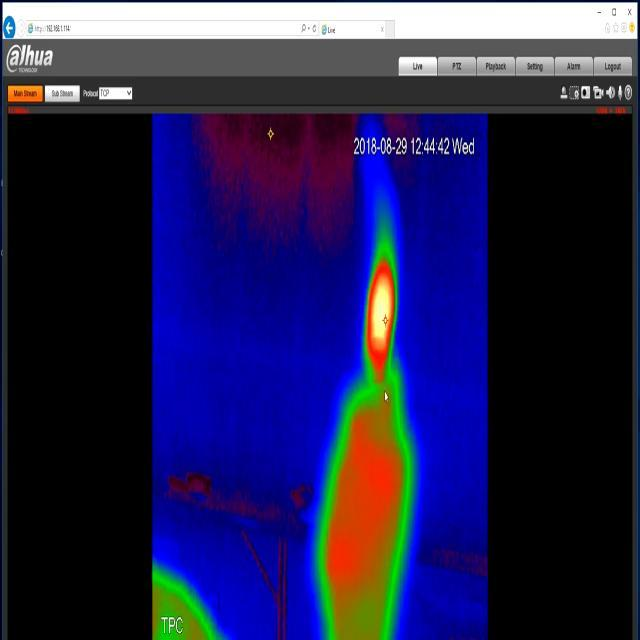fire: (366, 239, 399, 375)
